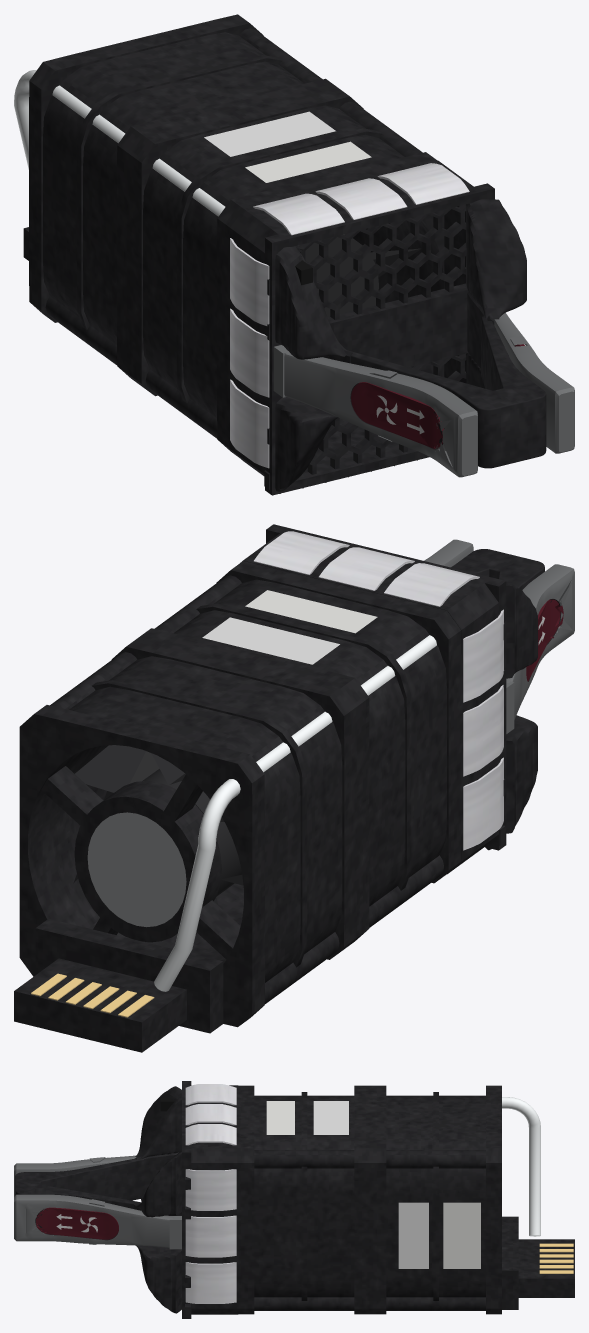
Rendered from C9K-T2-FANTRAY.glb.
3 views of the same model, one above another, from view 1: azimuth 30°, elevation 25°; view 2: azimuth 150°, elevation 25°; view 3: azimuth 270°, elevation 25° (orthographic). The views are drawn at different scales.
Visible parts, largest first — view 1: Body; view 2: Body; view 3: Body.
Part boxes in pixels (x1,y1,x2,y2): Body: (14,14,574,495); Body: (14,524,574,1052); Body: (14,1081,574,1318).
Bounding box in the file's own units: 0.0379 × 0.0404 × 0.1192.
Materials: 11 (2 with a texture image).
